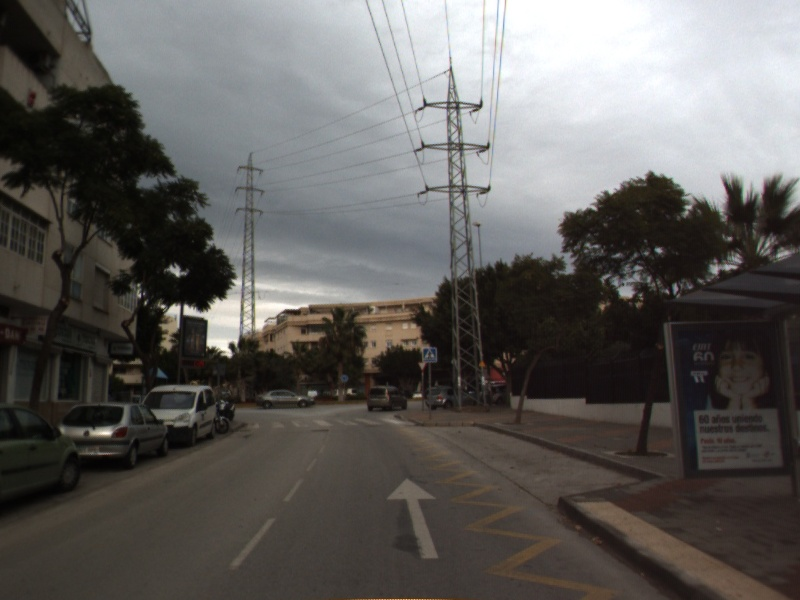STRAIGHT: (384, 476, 443, 561)
